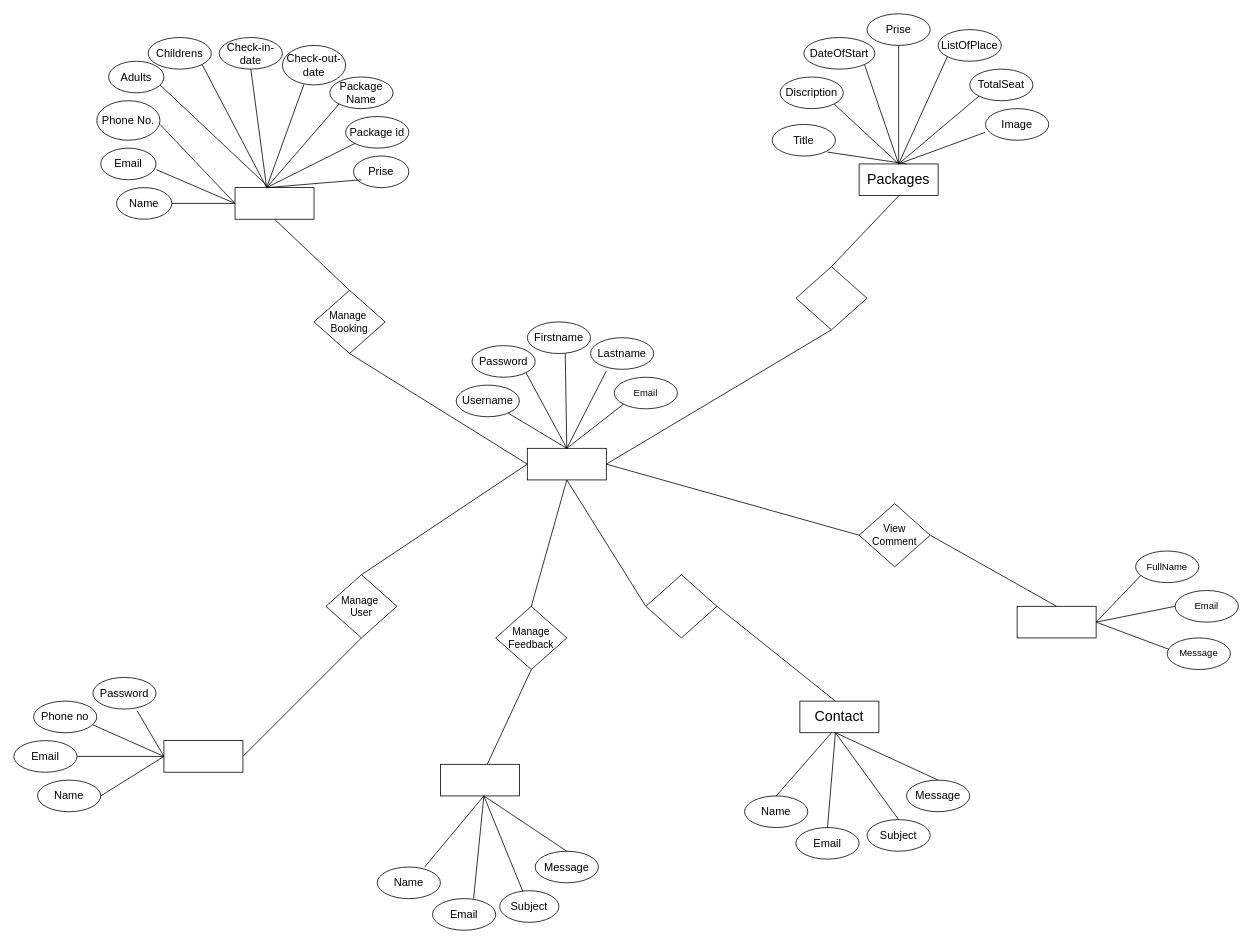
This 1252x944 diagram has some shape labels left out. Here are the shapes that lost their labels. From the top down, the centre of each, then its label:
At point 274,203: "Booking".
At point 831,298: "Manage Packages".
At point 566,464: "Admin".
At point 681,606: "Manage Contact".
At point 1056,622: "Comment".
At point 203,756: "User".
At point 479,780: "Feedback".
